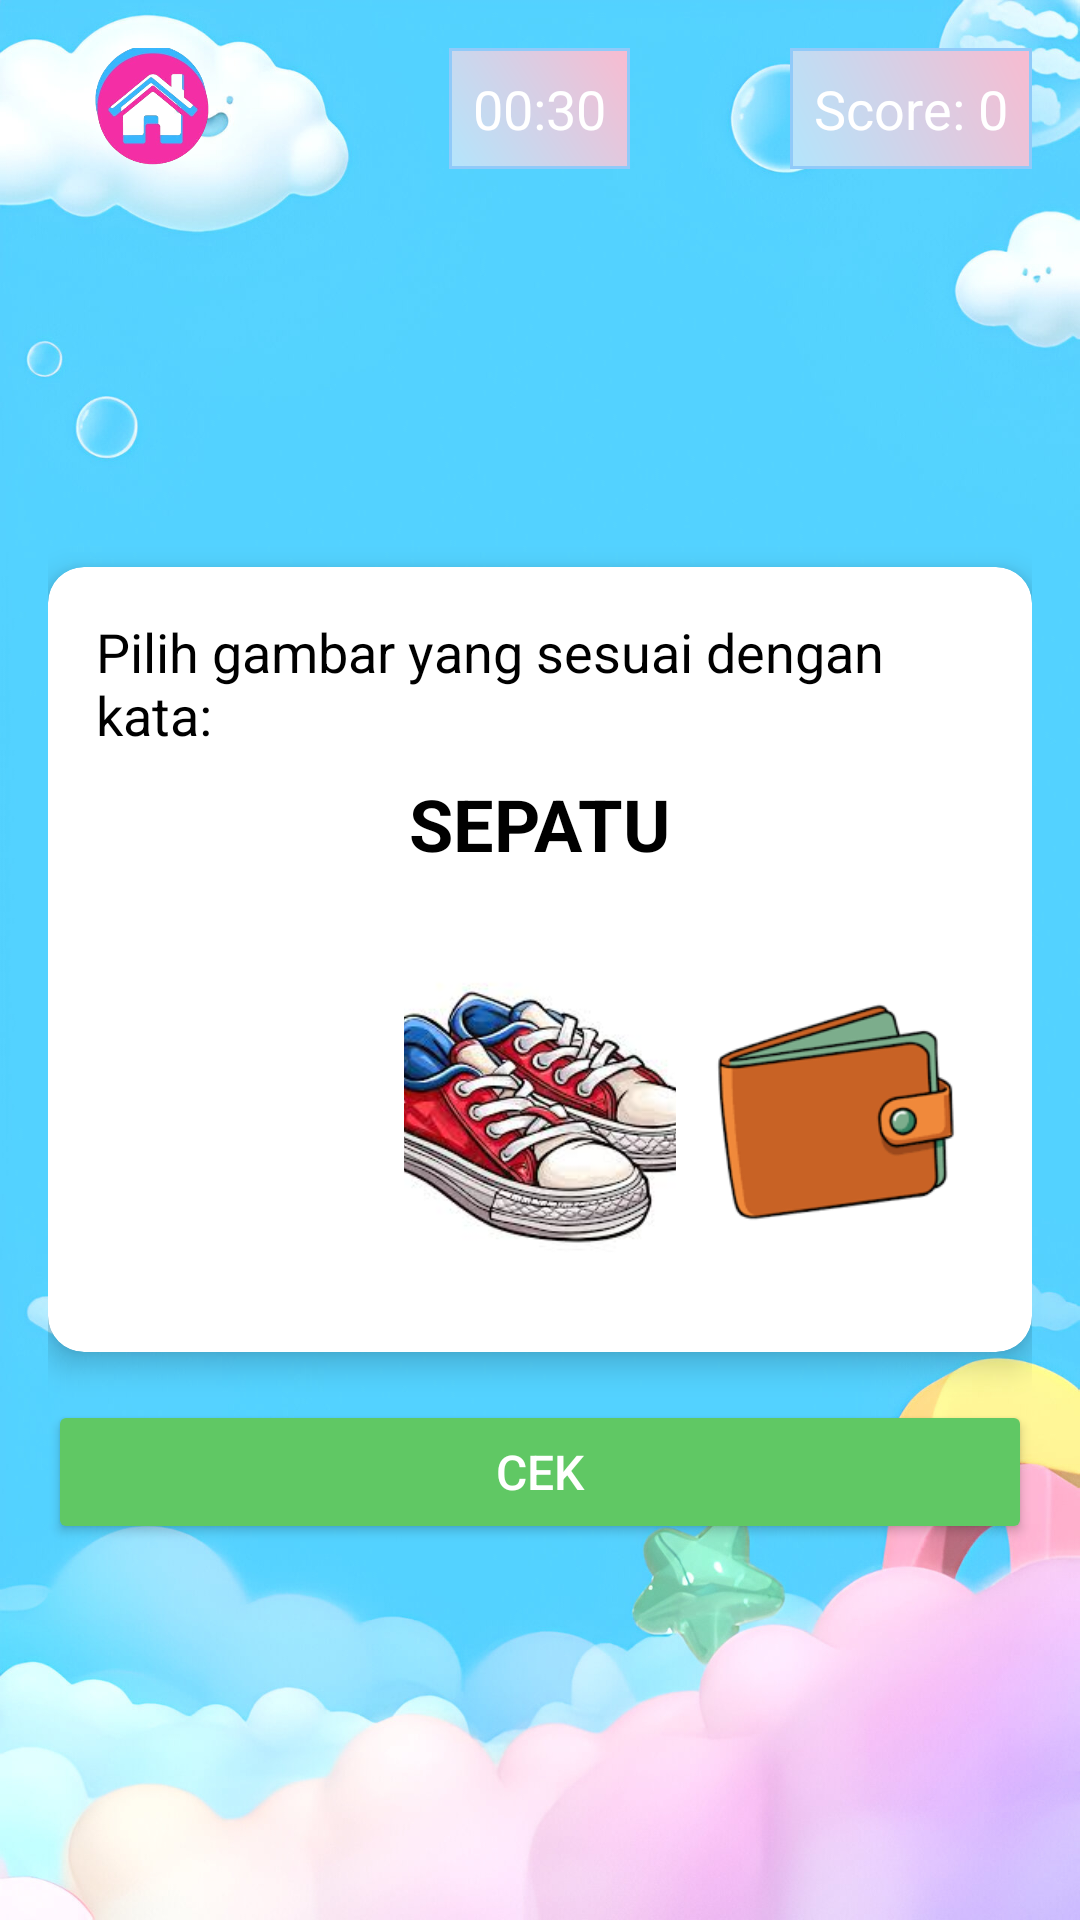

Screen size 1080px x 1920px. Icon name, then its box in pixels as (x1, y1, x2, y2):
Gambar Dompet: (718, 1005, 954, 1220)
